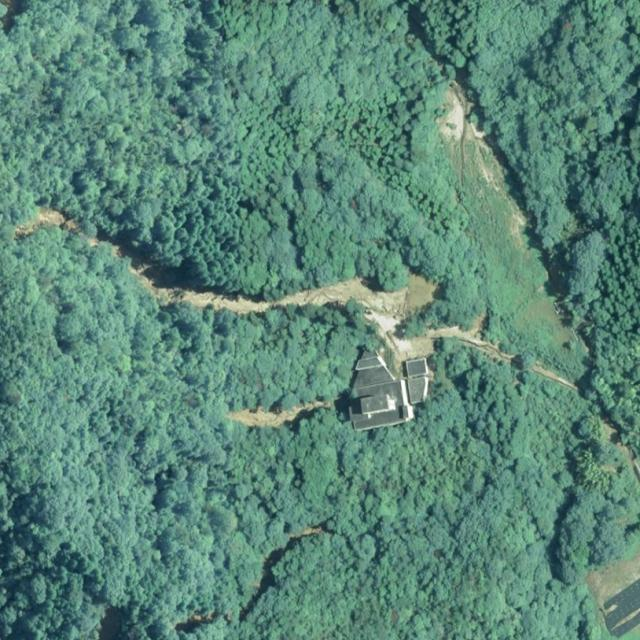landslide: (141, 275, 436, 323), (368, 309, 512, 363)
